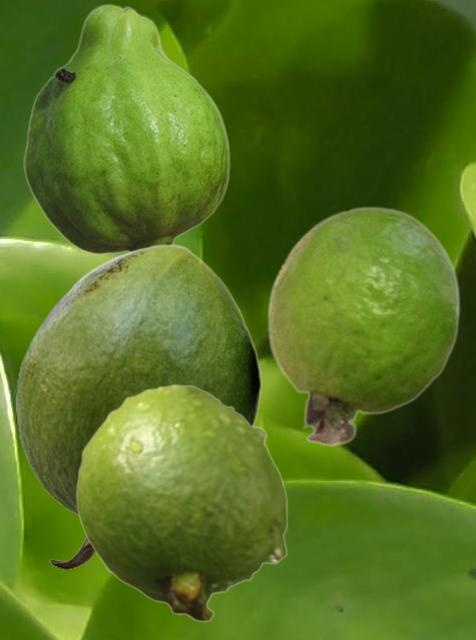guava: (16, 244, 261, 573), (22, 3, 229, 256), (75, 383, 287, 621), (267, 205, 460, 446)
